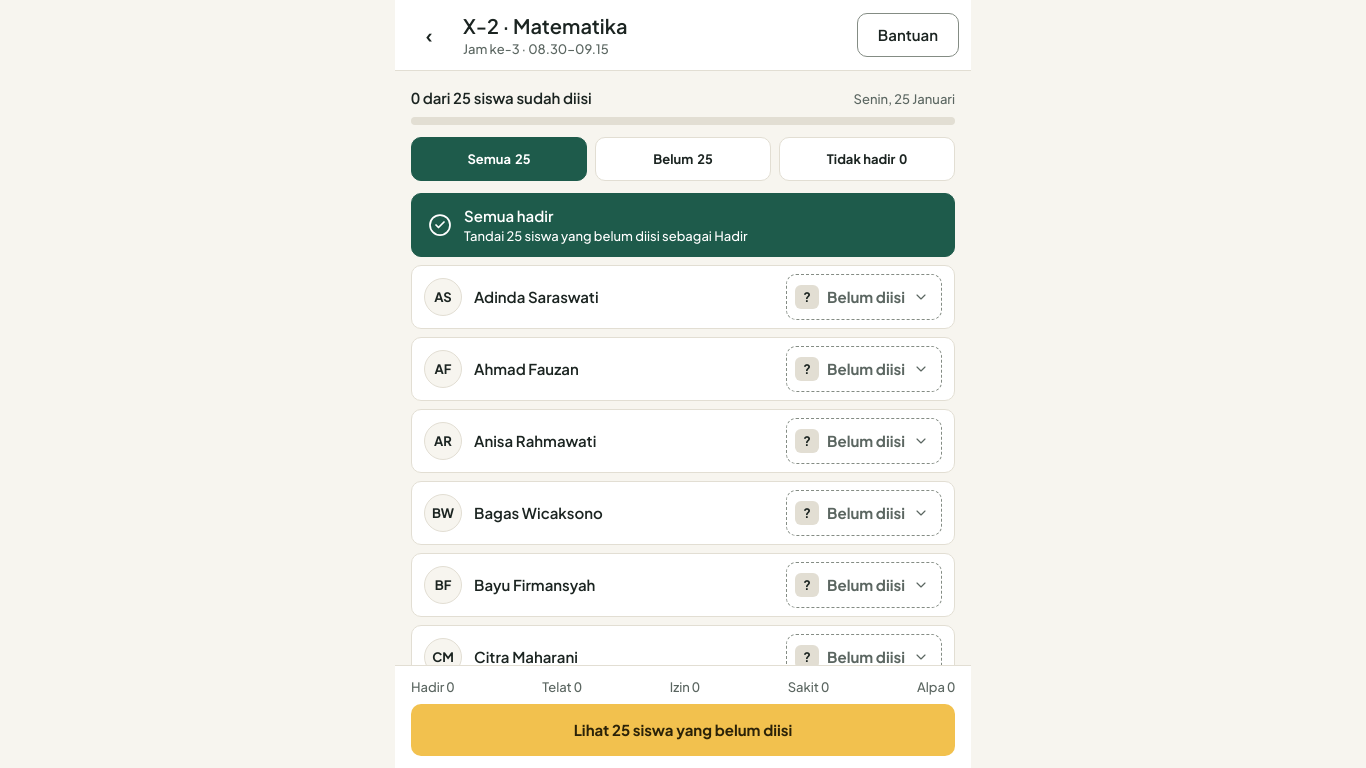
step 3: Semua hadir › after some are filled it is called "Sisanya hadir" and leaves them alone
The image size is (1366, 768).
What coordinates should you click on to do the following:
click the button "AF Ahmad Fauzan ? Belum diisi"
I would click on:
 (443, 369)
Its box is [411,337,955,401].
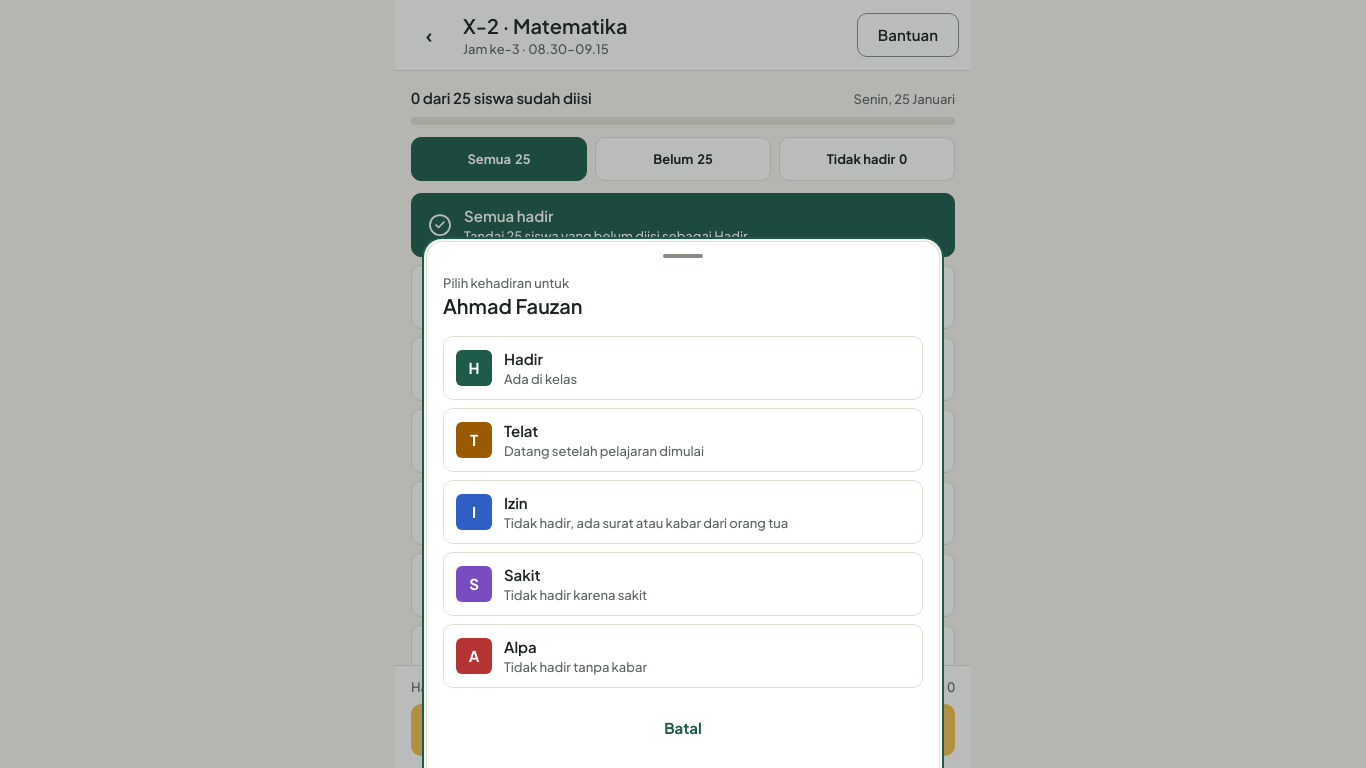
What coordinates should you click on to do the following:
click the button "A Alpa Tidak hadir tanpa kabar"
I would click on:
 (474, 656)
Its box is [443,624,923,688].
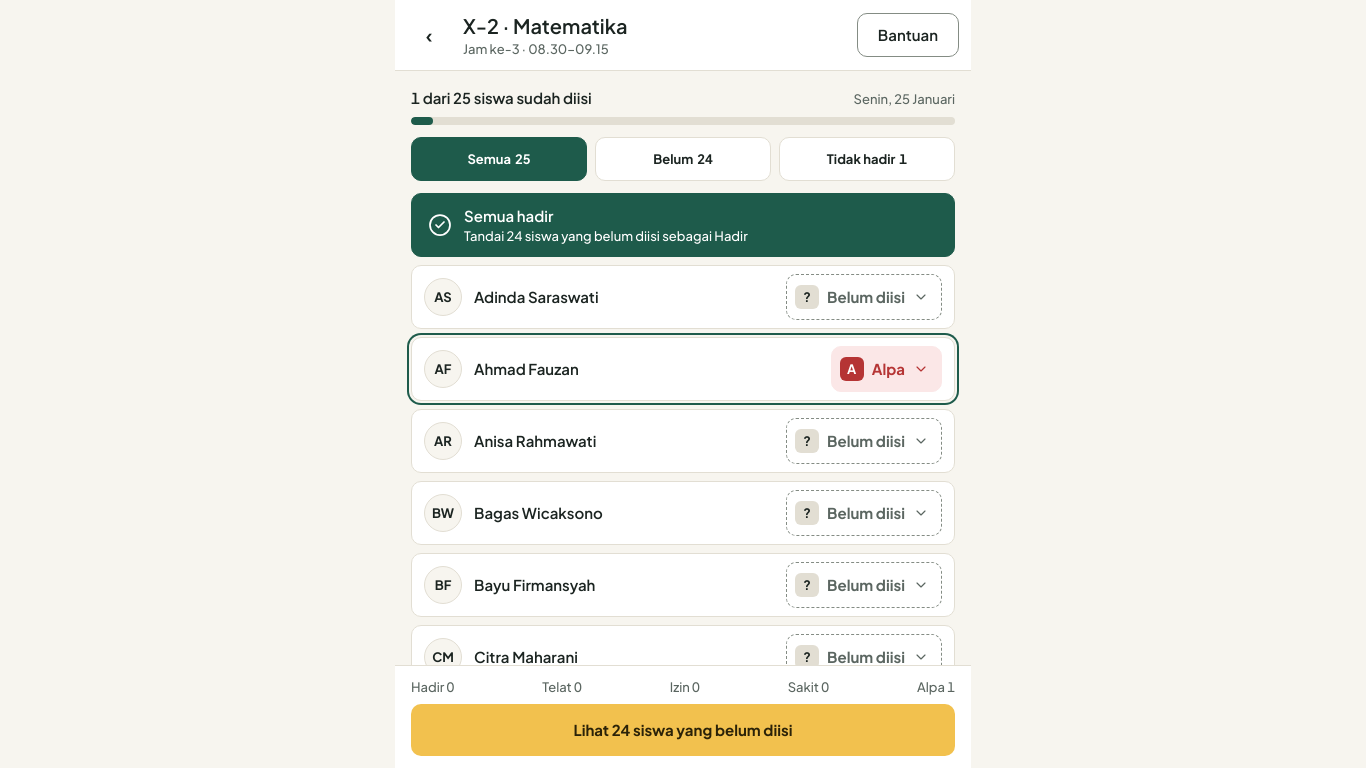
Check: the dialog is gone
What coordinates should you click on to do the following:
click the button "BF Bayu Firmansyah ? Belum diisi"
I would click on:
 (443, 585)
Its box is [411,553,955,617].
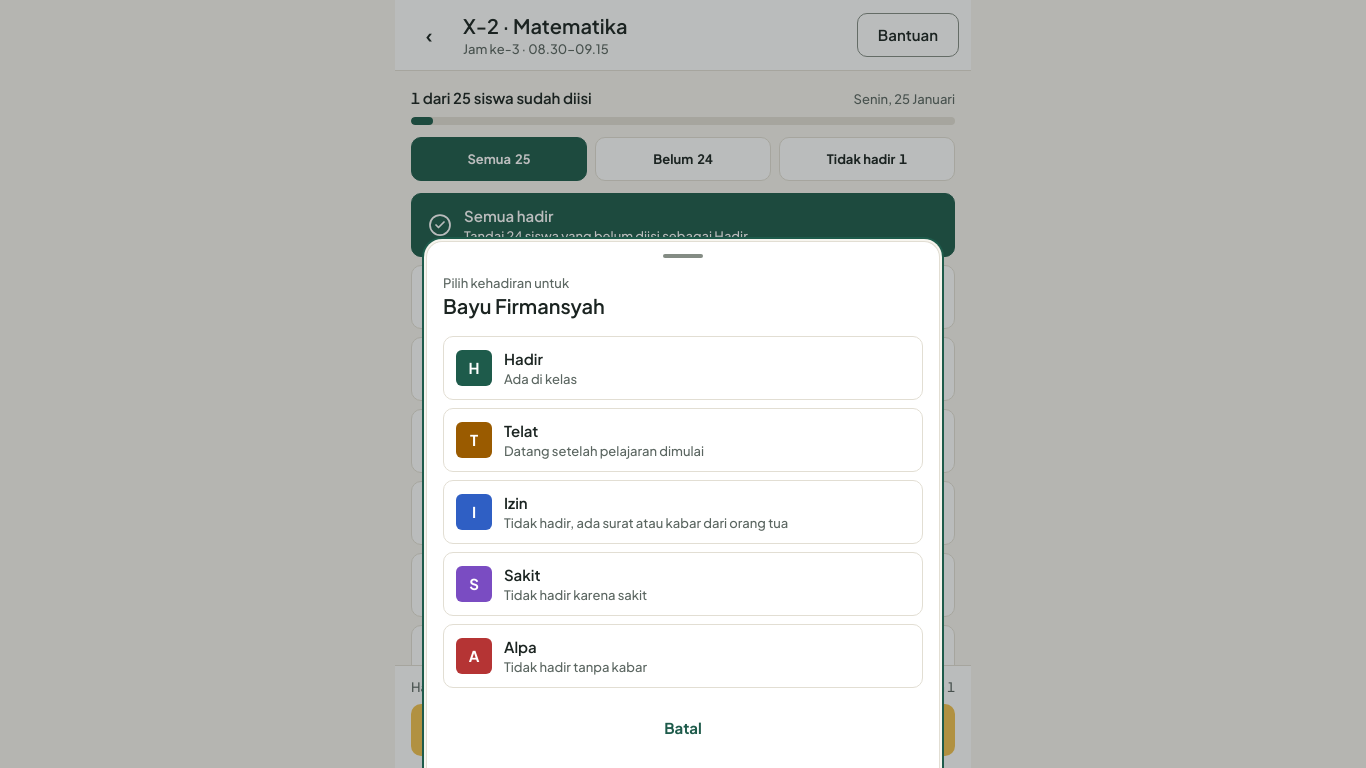
What coordinates should you click on to do the following:
click the button "T Telat Datang setelah pelajaran dimulai"
I would click on:
 (683, 440)
Its box is [443,408,923,472].
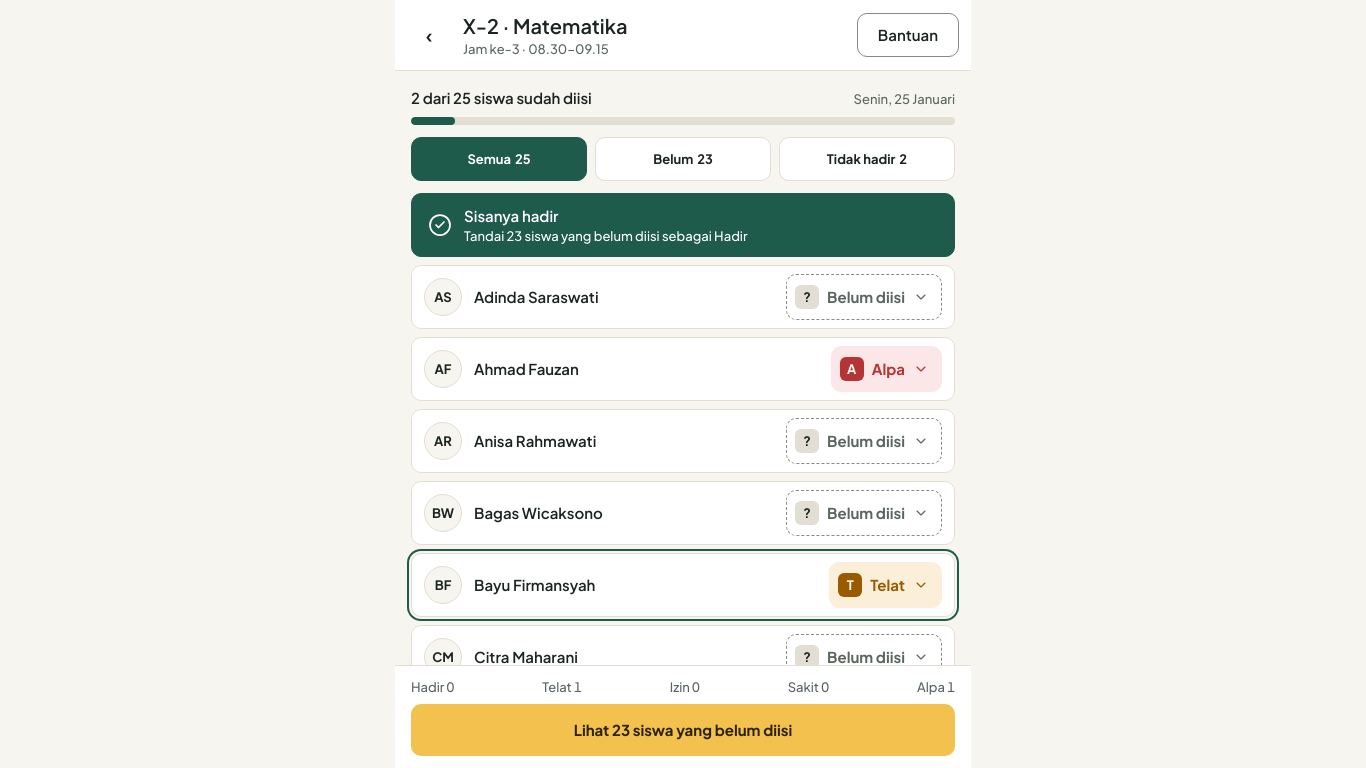
Check: the dialog is gone
What coordinates should you click on to do the following:
click the button "Sisanya hadir Tandai 23 siswa yang belum diisi sebagai Hadir"
I would click on:
 (683, 225)
Its box is [411,193,955,257].
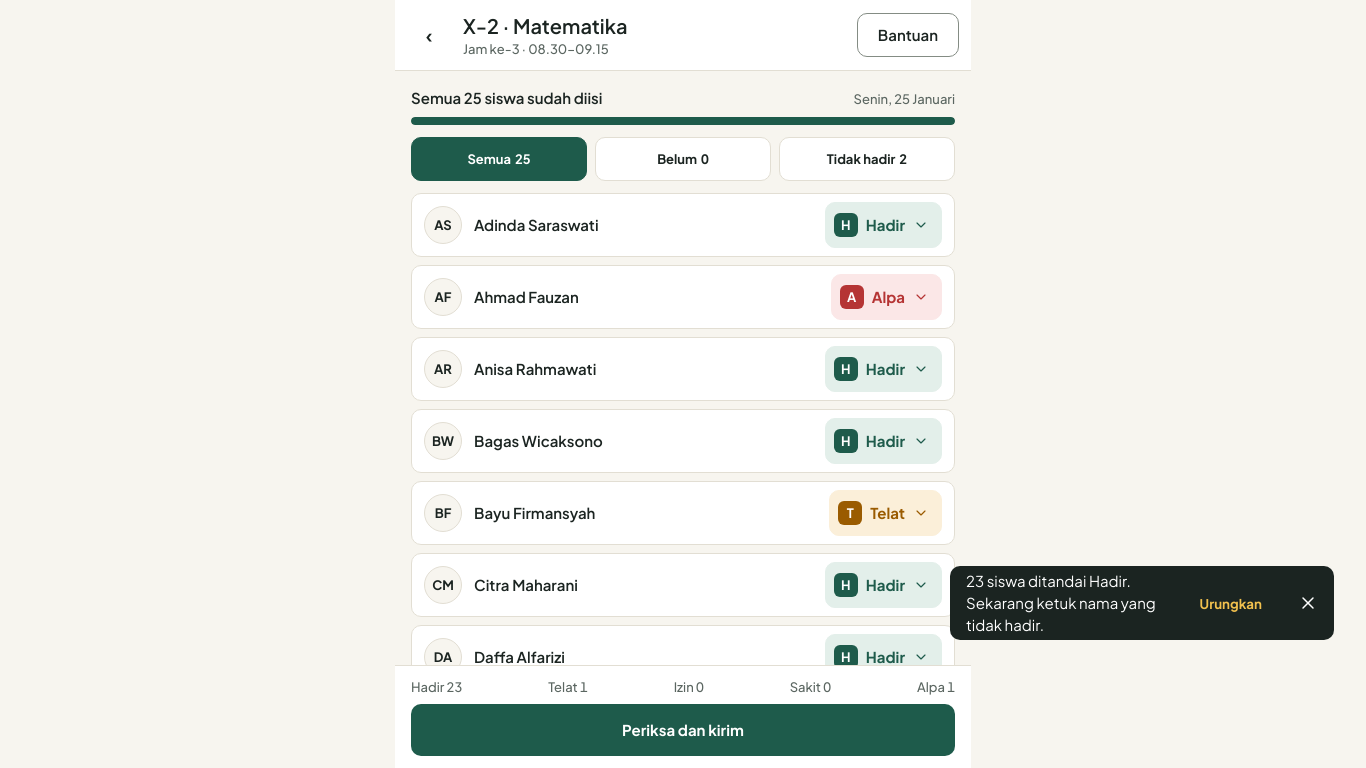
Check: the text "23 siswa ditandai Hadir. Sekarang ketuk nama yang tidak hadir." is shown, box [966,570,1176,636]
